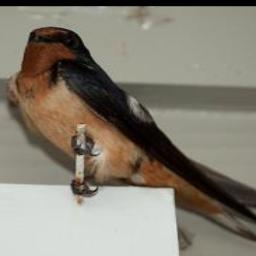Swallow: (17, 25, 256, 256)
